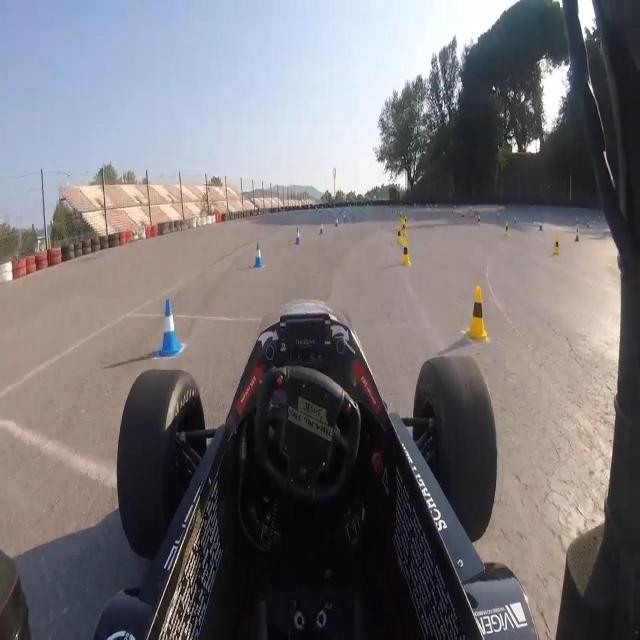blue_cone: (158, 294, 181, 358), (251, 238, 263, 271), (294, 225, 300, 245), (575, 226, 581, 244), (318, 218, 324, 235), (333, 216, 339, 228)
yellow_cone: (463, 284, 487, 342), (400, 238, 411, 269), (552, 234, 559, 255), (396, 228, 402, 245), (401, 222, 407, 238), (504, 220, 509, 238), (404, 216, 408, 230)
